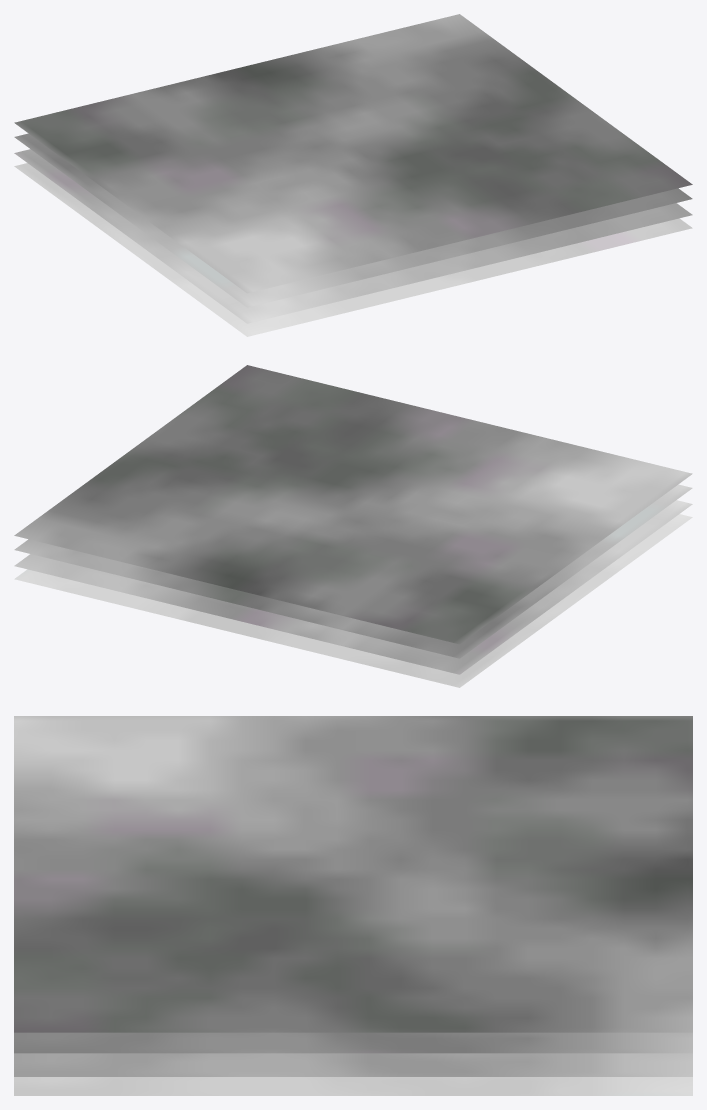
Rendered from SWORDLIGHT20_MAINCAVERNCLOUDS17.fbx.
3 views of the same model, one above another, from view 1: azimuth 30°, elevation 25°; view 2: azimuth 150°, elevation 25°; view 3: azimuth 270°, elevation 25° (orthographic). The views are drawn at different scales.
Visible parts, largest first — view 1: SWORDLIGHT20_MAINCAVERNCLOUDS17; view 2: SWORDLIGHT20_MAINCAVERNCLOUDS17; view 3: SWORDLIGHT20_MAINCAVERNCLOUDS17.
Boxes of the visible parts, left/top/right/bottom form: SWORDLIGHT20_MAINCAVERNCLOUDS17: left=14, top=14, right=692, bottom=336; SWORDLIGHT20_MAINCAVERNCLOUDS17: left=14, top=365, right=692, bottom=687; SWORDLIGHT20_MAINCAVERNCLOUDS17: left=14, top=716, right=692, bottom=1095.
Bounding box in the file's own units: 161490 × 15056 × 146334.
Materials: 4 (4 with a texture image).
